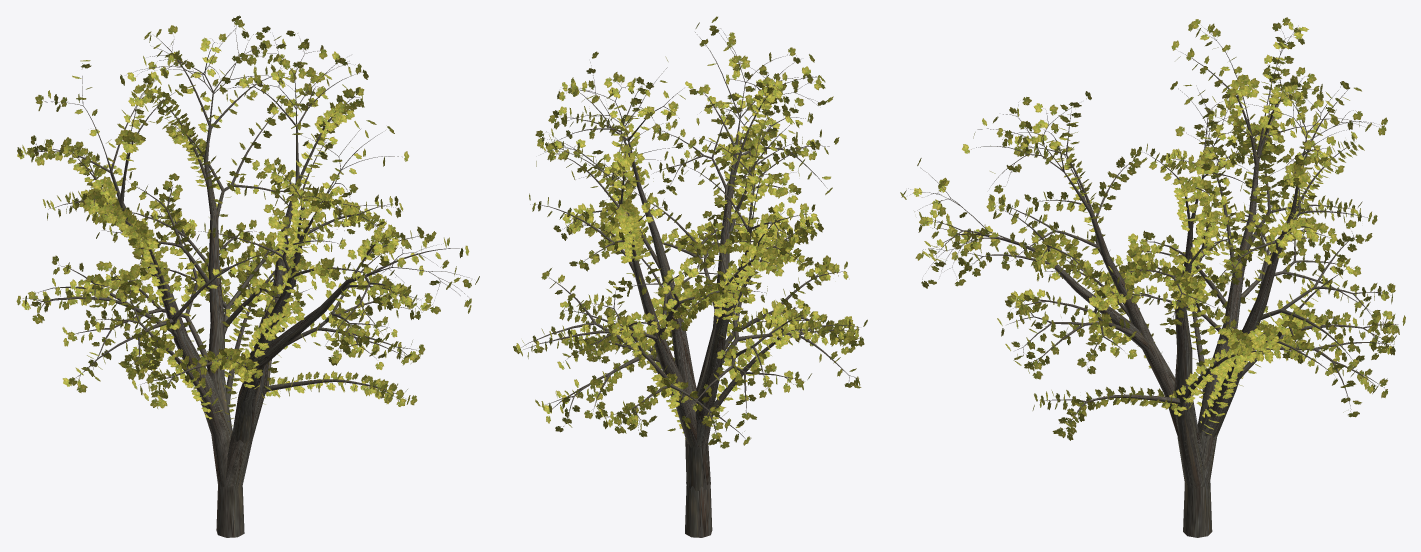
Rendered from Amazonie_Arbre_21.fbx.
The picture shows the model from 3 angles, left to right: view 1: azimuth 30°, elevation 25°; view 2: azimuth 150°, elevation 25°; view 3: azimuth 270°, elevation 25°; orthographic projection. The views are drawn at different scales.
Parts seen in each view (by area): view 1: Plane.001, tree; view 2: Plane.001, tree; view 3: Plane.001, tree.
Part boxes in pixels (x1,y1,x2,y2): Plane.001: [16, 15, 479, 426]; tree: [23, 17, 469, 537]; Plane.001: [513, 16, 867, 448]; tree: [521, 32, 859, 537]; Plane.001: [900, 17, 1405, 440]; tree: [908, 27, 1398, 537].
Bounding box in the file's own units: 1146 × 1624 × 1564.
